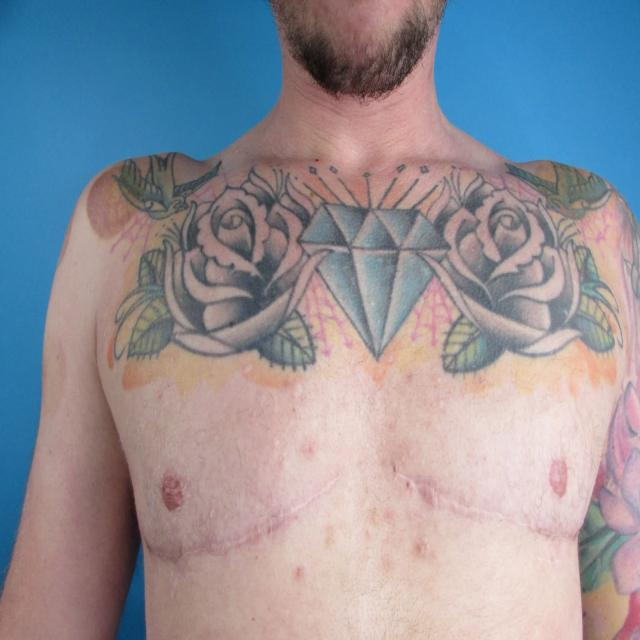Seno herido: (117, 342, 360, 594), (375, 343, 607, 575)
